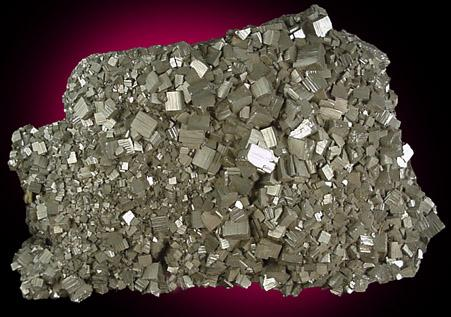pyrite: (8, 5, 445, 302)
